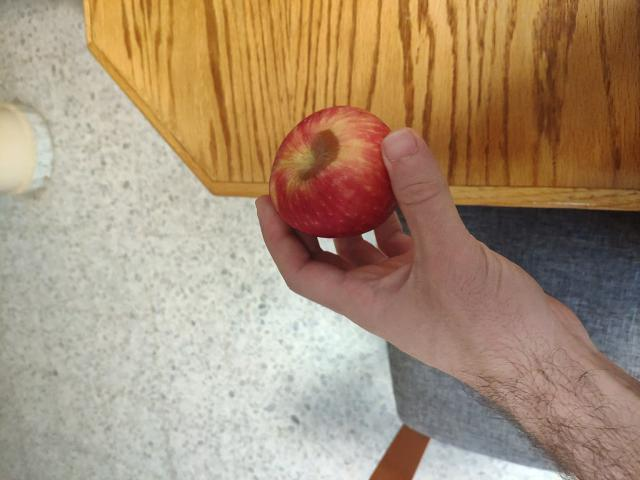apple: (258, 108, 422, 240)
